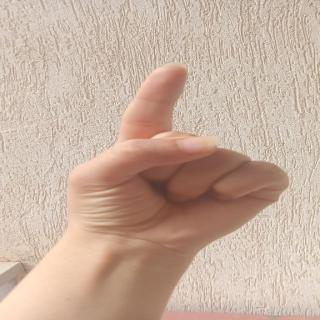BAA: (44, 51, 287, 258)
